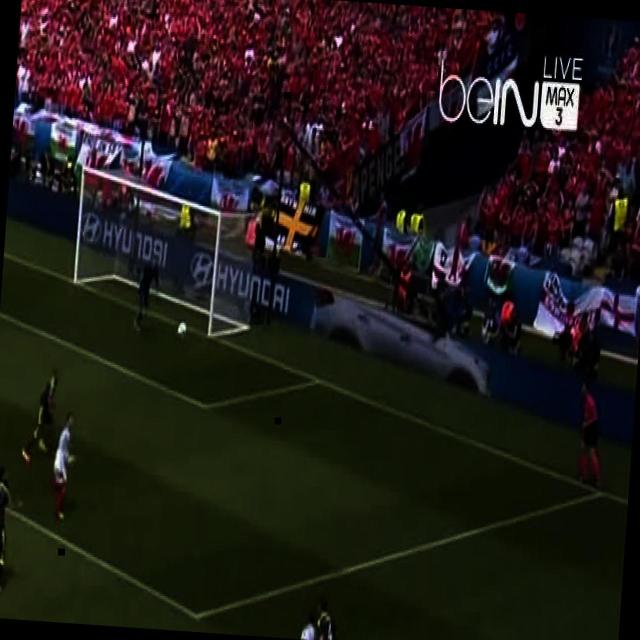ball: (176, 320, 187, 340)
player-white: (574, 379, 608, 486), (21, 373, 59, 464), (48, 412, 78, 522), (0, 466, 24, 598), (132, 256, 162, 332), (312, 599, 352, 640), (282, 611, 327, 640)
